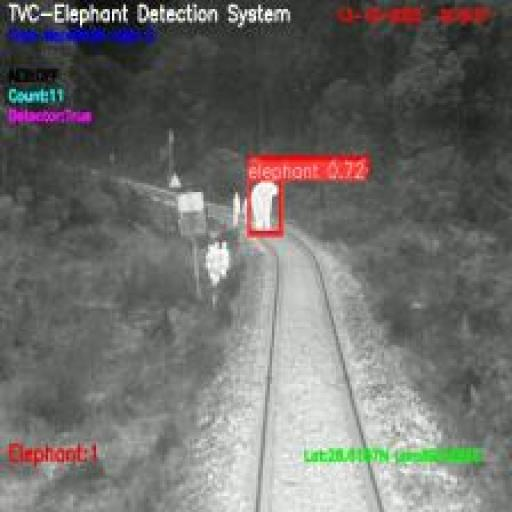Elephant: (249, 178, 282, 234)
